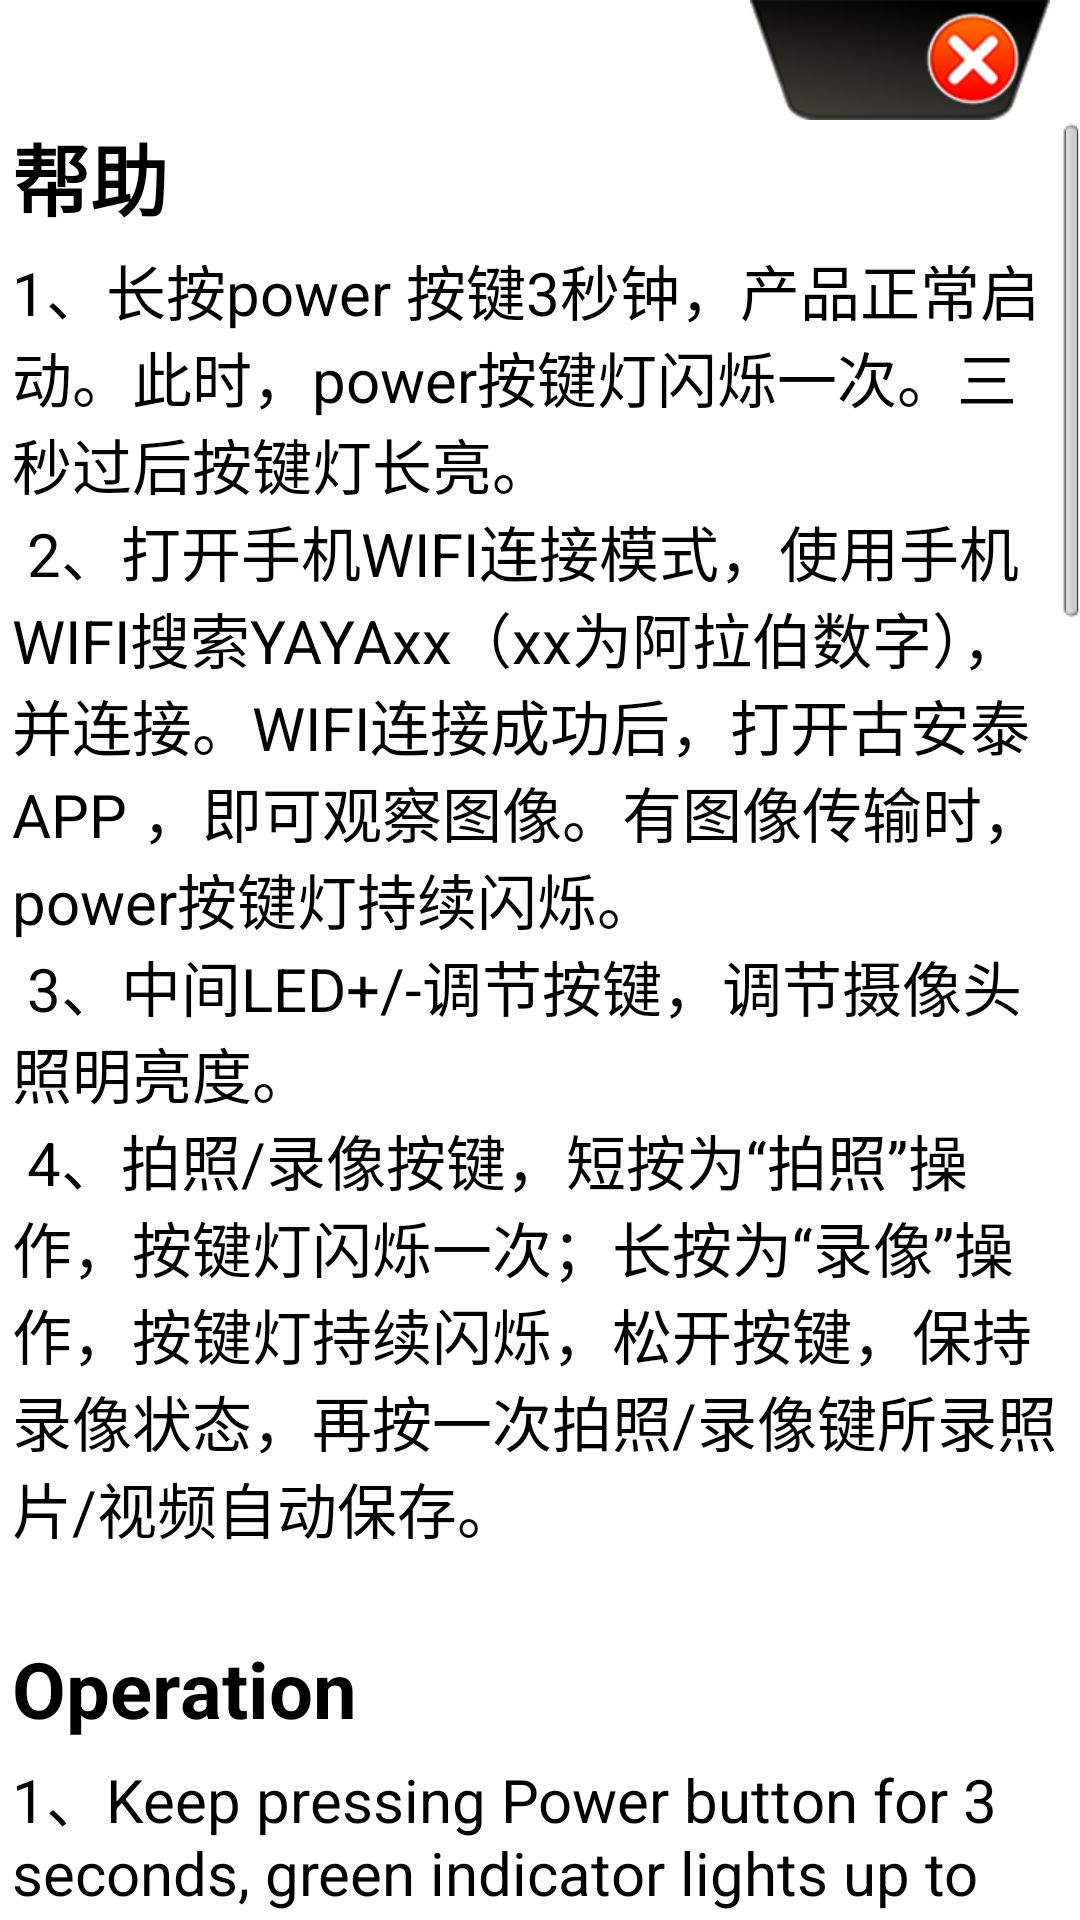

Named icons in this screenshot (1080 x 1920) and their centers, [x,y]:
dialogclose: [974,59]
